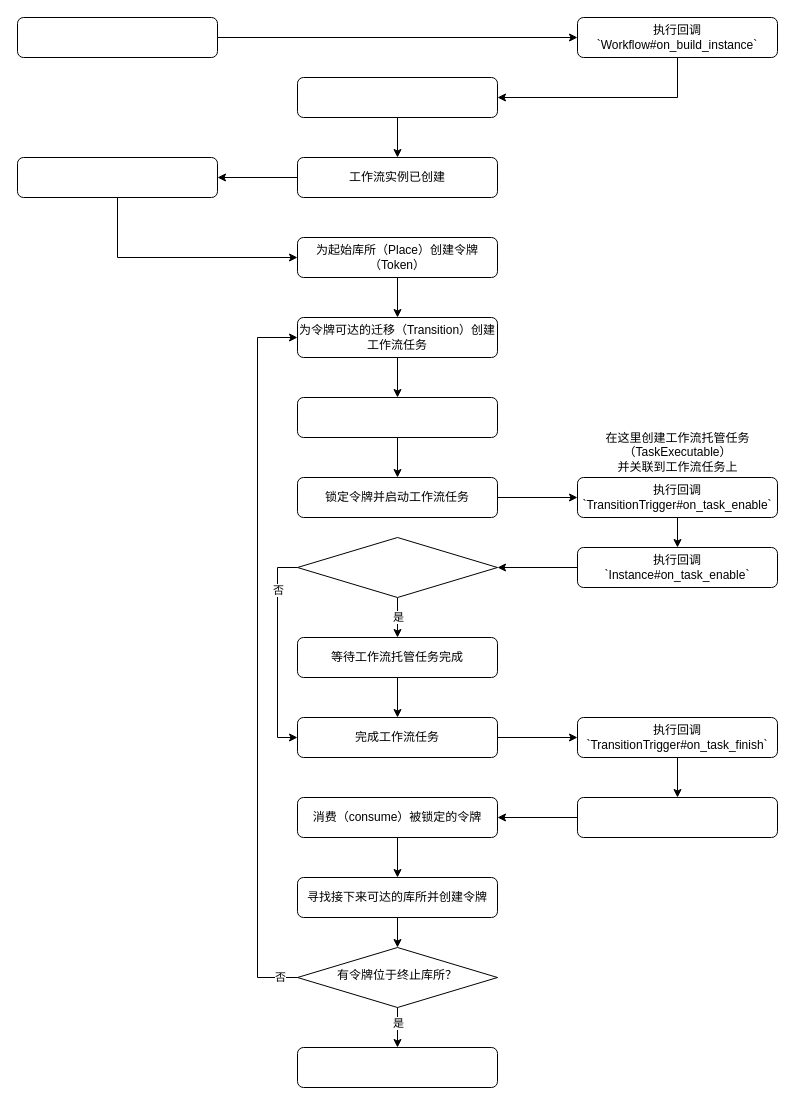
Image size: 795x1105. Some labels were removed from this diagram. The shapes that lost their labels are listed below. From the top down, each one's centre as x and y in pixels, then its label:
At (x=117, y=37): "创建工作流实例 `Workflow#create_instance``".
At (x=397, y=97): "持久化工作流实例 `Instance#save`".
At (x=117, y=177): "启动工作流实例 `Instance#activate`".
At (x=397, y=417): "等待令牌可被激发（fireable）".
At (x=397, y=567): "已关联 工作流托管任务 ？".
At (x=677, y=817): "执行回调 `Instance#on_task_finish`".
At (x=397, y=1067): "工作流实例完成".
